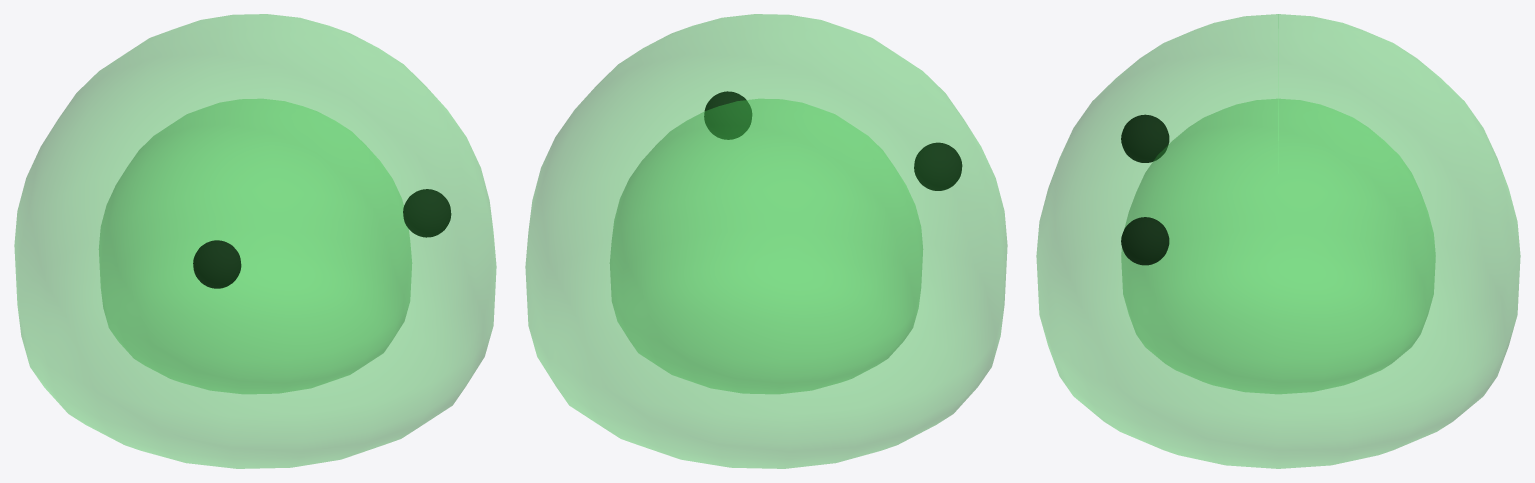
The model's file is Slime2.fbx.
The picture shows the model from 3 angles, left to right: view 1: azimuth 30°, elevation 25°; view 2: azimuth 150°, elevation 25°; view 3: azimuth 270°, elevation 25°; orthographic projection.
Parts seen in each view (by area): view 1: Outside, Inside, Left_eye, Right_eye; view 2: Outside, Inside, Left_eye, Right_eye; view 3: Outside, Inside, Right_eye, Left_eye.
Boxes of the visible parts, box(x1,y1,x2,y2) form: Outside: box(14, 14, 496, 468); Inside: box(99, 99, 411, 393); Left_eye: box(193, 240, 241, 288); Right_eye: box(403, 189, 451, 237); Outside: box(525, 14, 1007, 468); Inside: box(610, 99, 922, 393); Left_eye: box(914, 142, 962, 190); Right_eye: box(704, 91, 751, 139); Outside: box(1036, 14, 1520, 468); Inside: box(1121, 99, 1435, 393); Right_eye: box(1121, 217, 1169, 265); Left_eye: box(1121, 114, 1169, 162).
Bounding box in the file's own units: 100 × 89.58 × 100.
2 materials, 2 textured.
